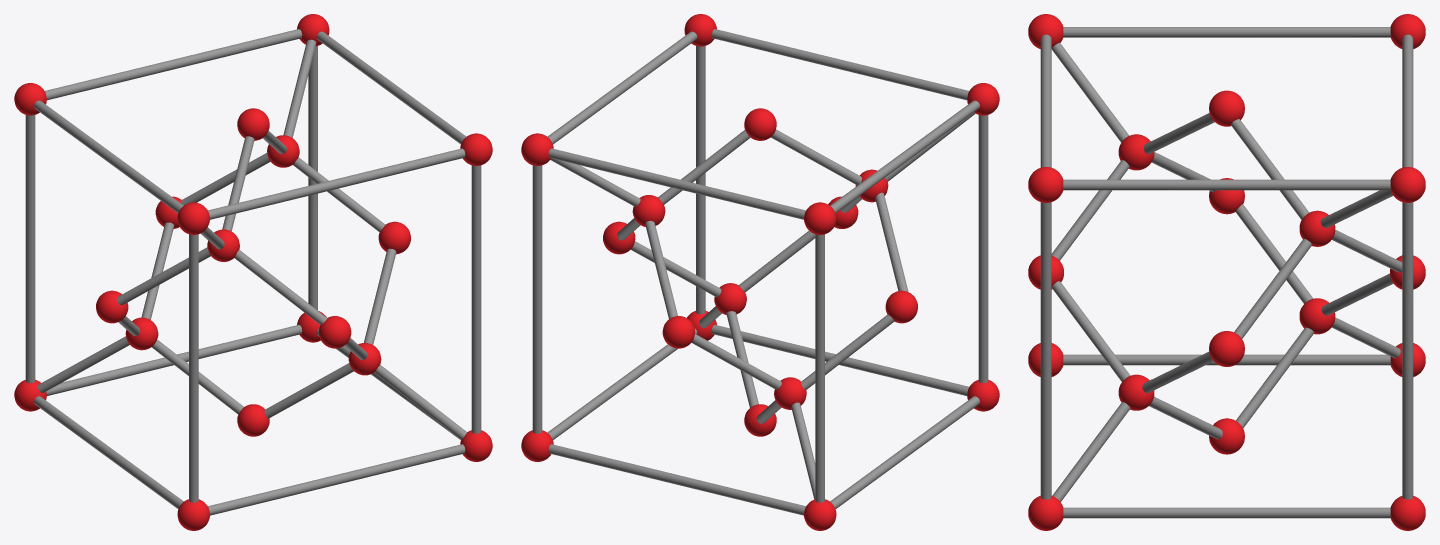
The picture shows the model from 3 angles, left to right: view 1: azimuth 30°, elevation 25°; view 2: azimuth 150°, elevation 25°; view 3: azimuth 270°, elevation 25°; orthographic projection. The views are drawn at different scales.
Visible parts, largest first — view 1: Цилиндр_Node (×23), Сферы_Node (×16); view 2: Цилиндр_Node (×23), Сферы_Node (×15); view 3: Цилиндр_Node (×24), Сферы_Node (×18).
Boxes of the visible parts, x1,y1,x2,y2 form: Цилиндр_Node (×23): [25, 29, 481, 515]; Сферы_Node (×16): [14, 14, 492, 530]; Цилиндр_Node (×23): [532, 29, 988, 515]; Сферы_Node (×15): [521, 14, 999, 530]; Цилиндр_Node (×24): [1040, 27, 1413, 518]; Сферы_Node (×18): [1028, 14, 1425, 530].
Bounding box in the file's own units: 4.33 × 4.33 × 4.33.
Materials: 29 (1 with a texture image).
